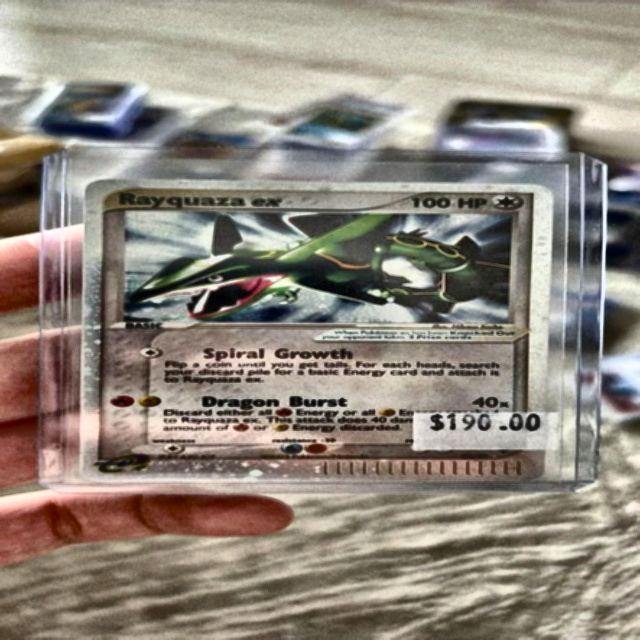card: (79, 178, 555, 482)
